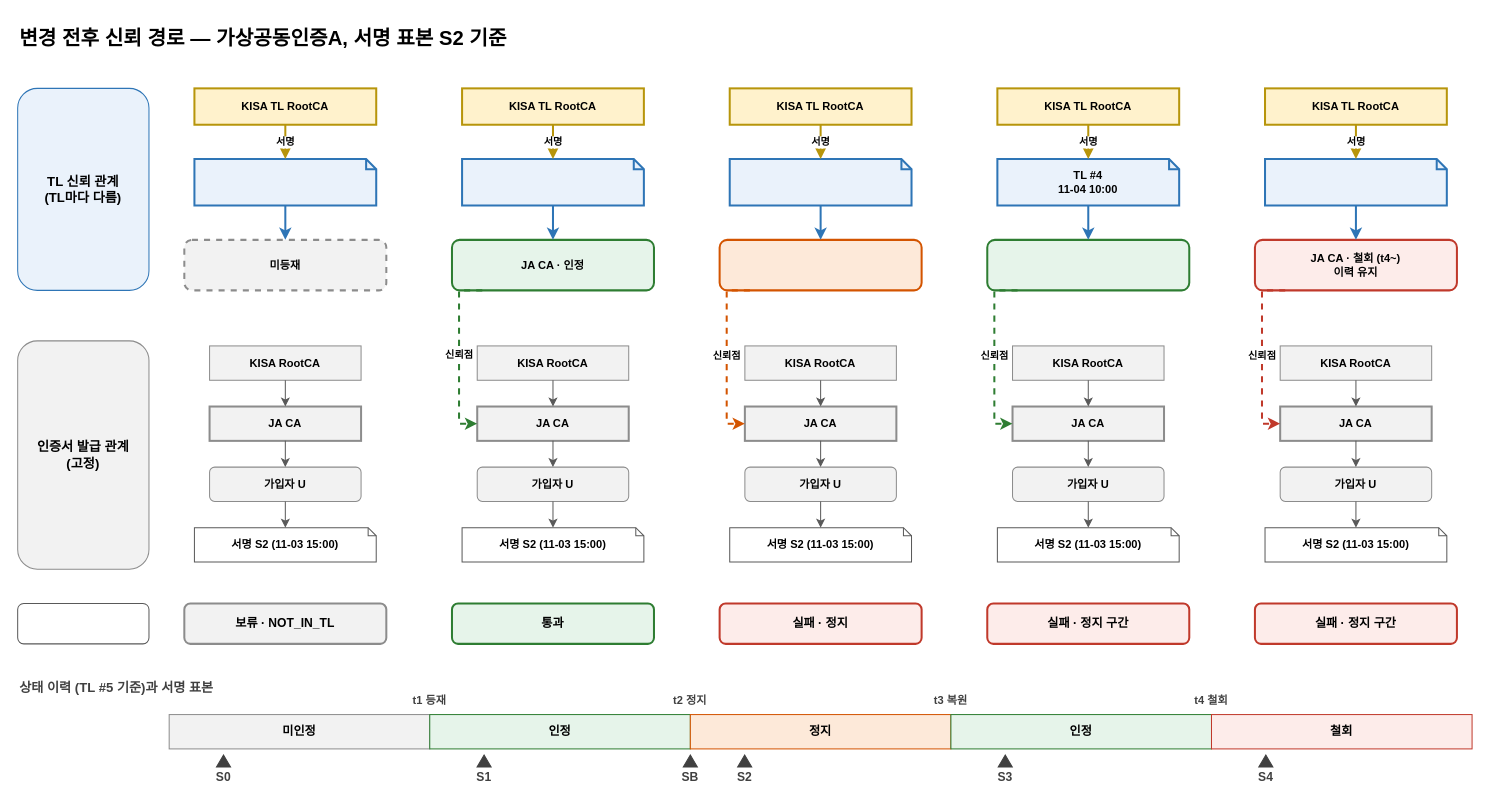
Some shapes in this 1490 by 804 pixel diagram are drawn without their labels. The shapes that lost their labels are listed below. From the top down, each one's centre as x and y in pixels, then its label:
pixel 285 182: TL #1 11-01 10:00
pixel 552 182: TL #2 11-02 10:00
pixel 820 182: TL #3 11-03 10:00
pixel 1355 182: TL #5 11-05 10:00
pixel 820 264: JA CA · 정지 (t2~)
pixel 1088 264: JA CA · 인정 (t3~) 정지 이력 유지
pixel 83 623: 판정 (S2)
